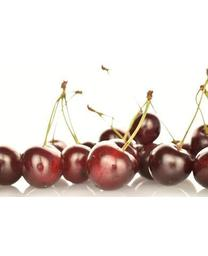cherry: (86, 141, 137, 190), (147, 141, 192, 186), (21, 144, 63, 189), (59, 145, 93, 185), (129, 112, 161, 144), (2, 146, 20, 187)
